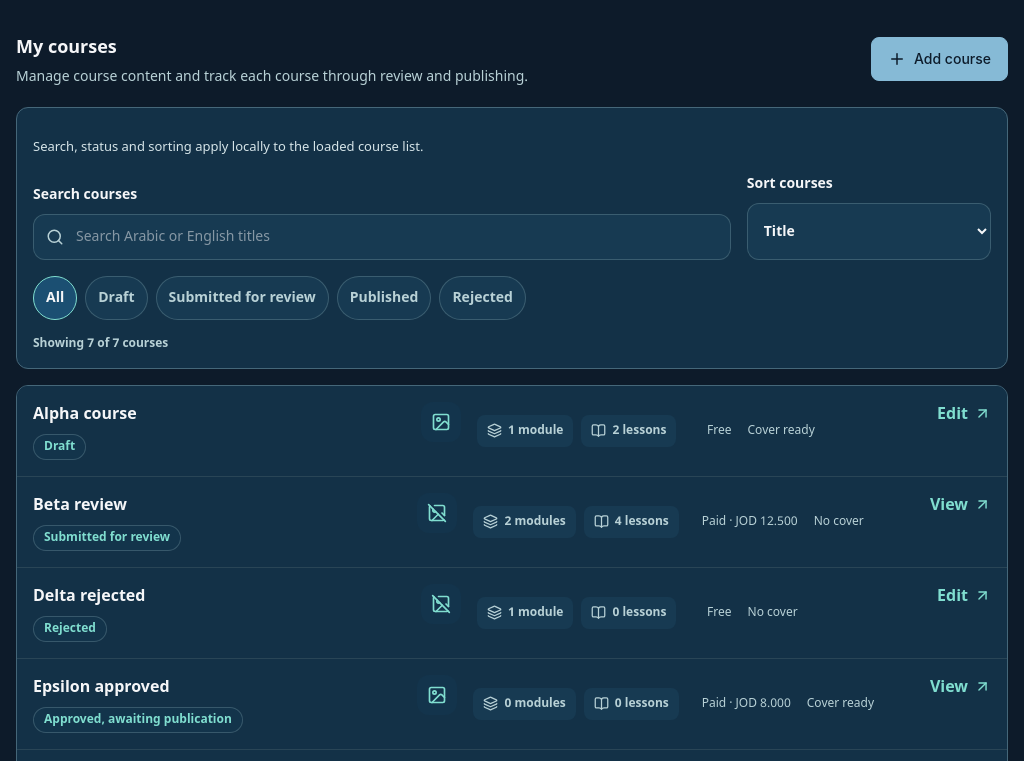
TeacherCoursesManagement › filters SubmittedForReview courses
Expected: the heading "Alpha course" is shown, [33,402,137,426]
Step 1. Click the button "Submitted for review" → [242, 298], box [156,276,329,320]
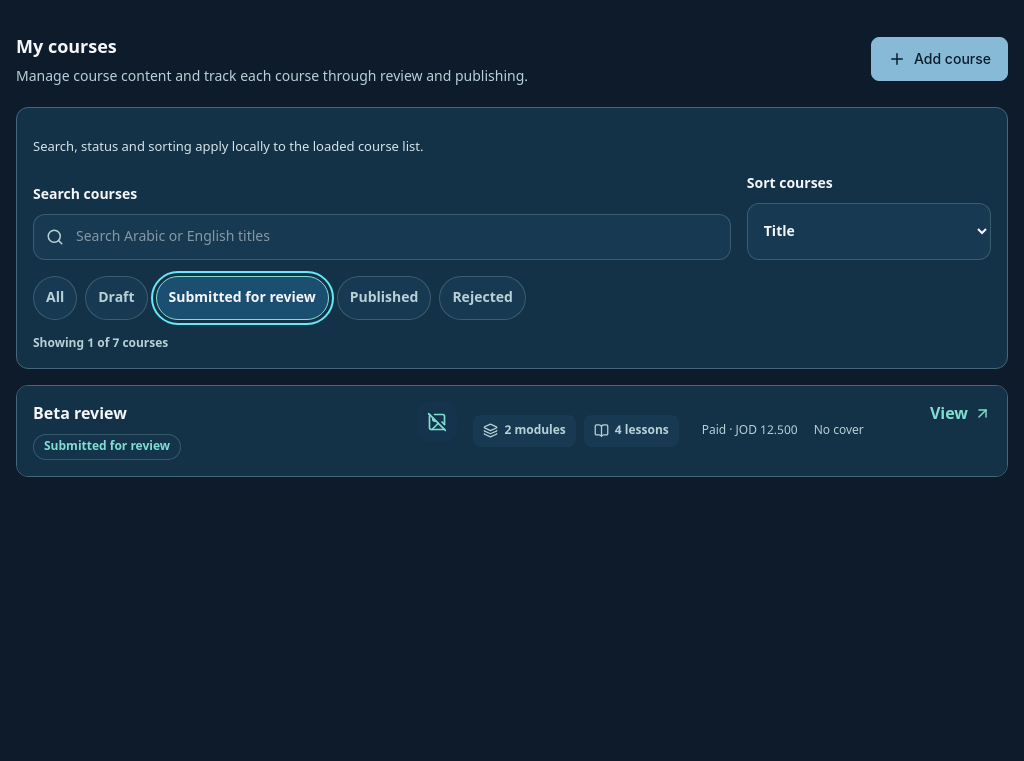
Expected: the heading "Beta review" is shown, [33,397,127,431]
Now the link "Alpha course" is gone
